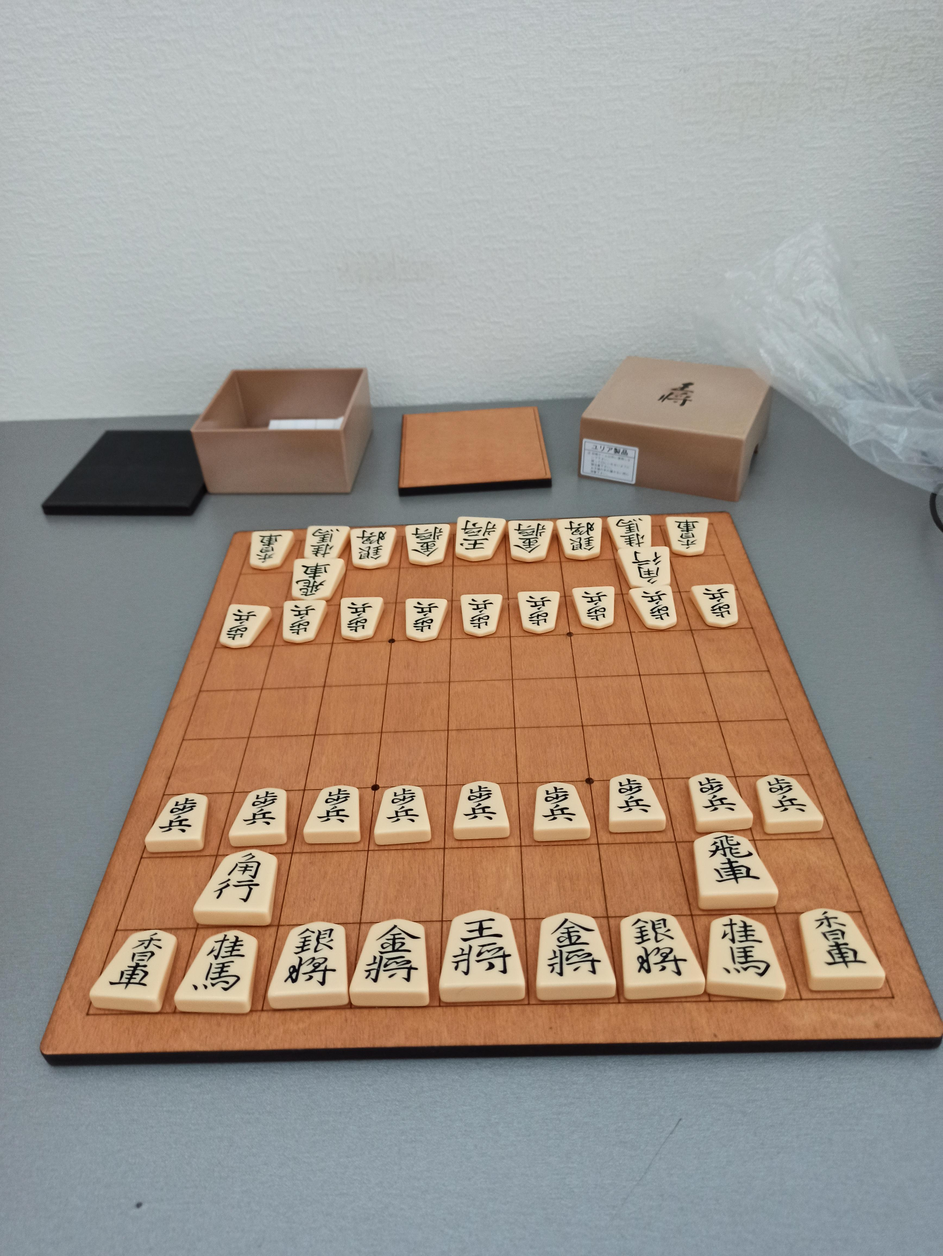board: (87, 523, 895, 1015)
